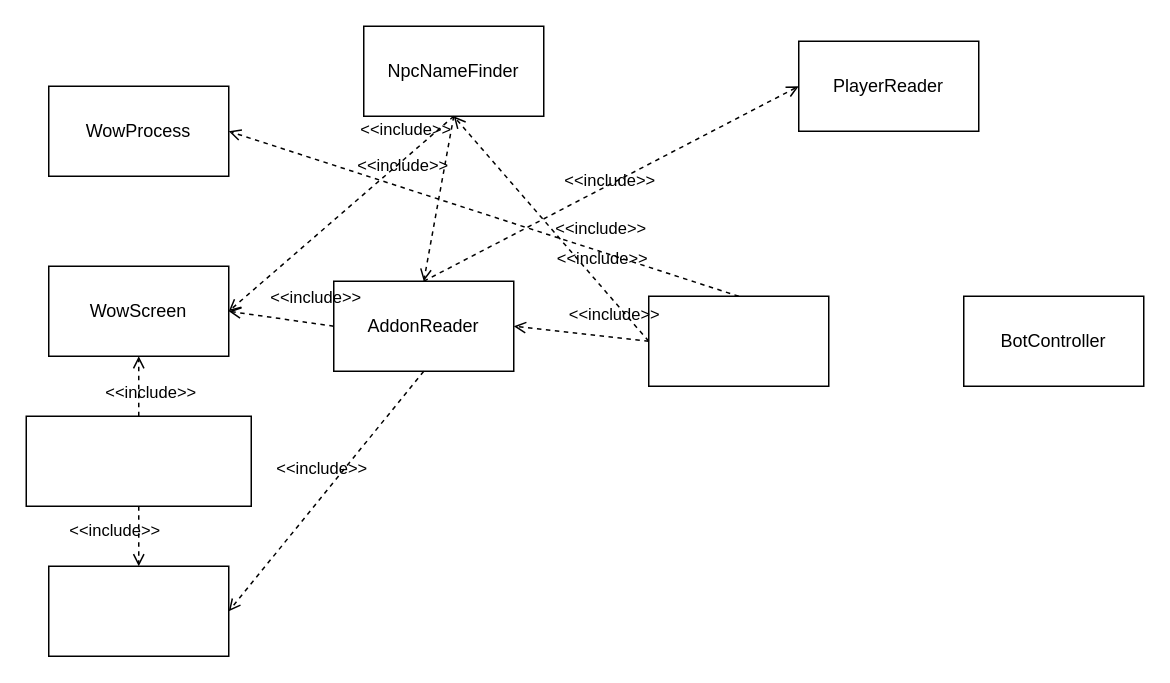
This 1170x683 diagram has some shape labels left out. The box of each missing label's shape, as (x1, y1, x2, y2) in pixels:
ActionFactory: (647, 295, 829, 386)
config.json （DataFrames）: (47, 565, 229, 656)
DataFrameConfiguration: (25, 415, 251, 506)
